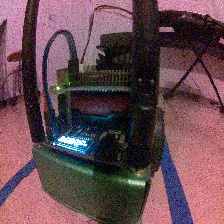rob: (30, 30, 166, 224)
